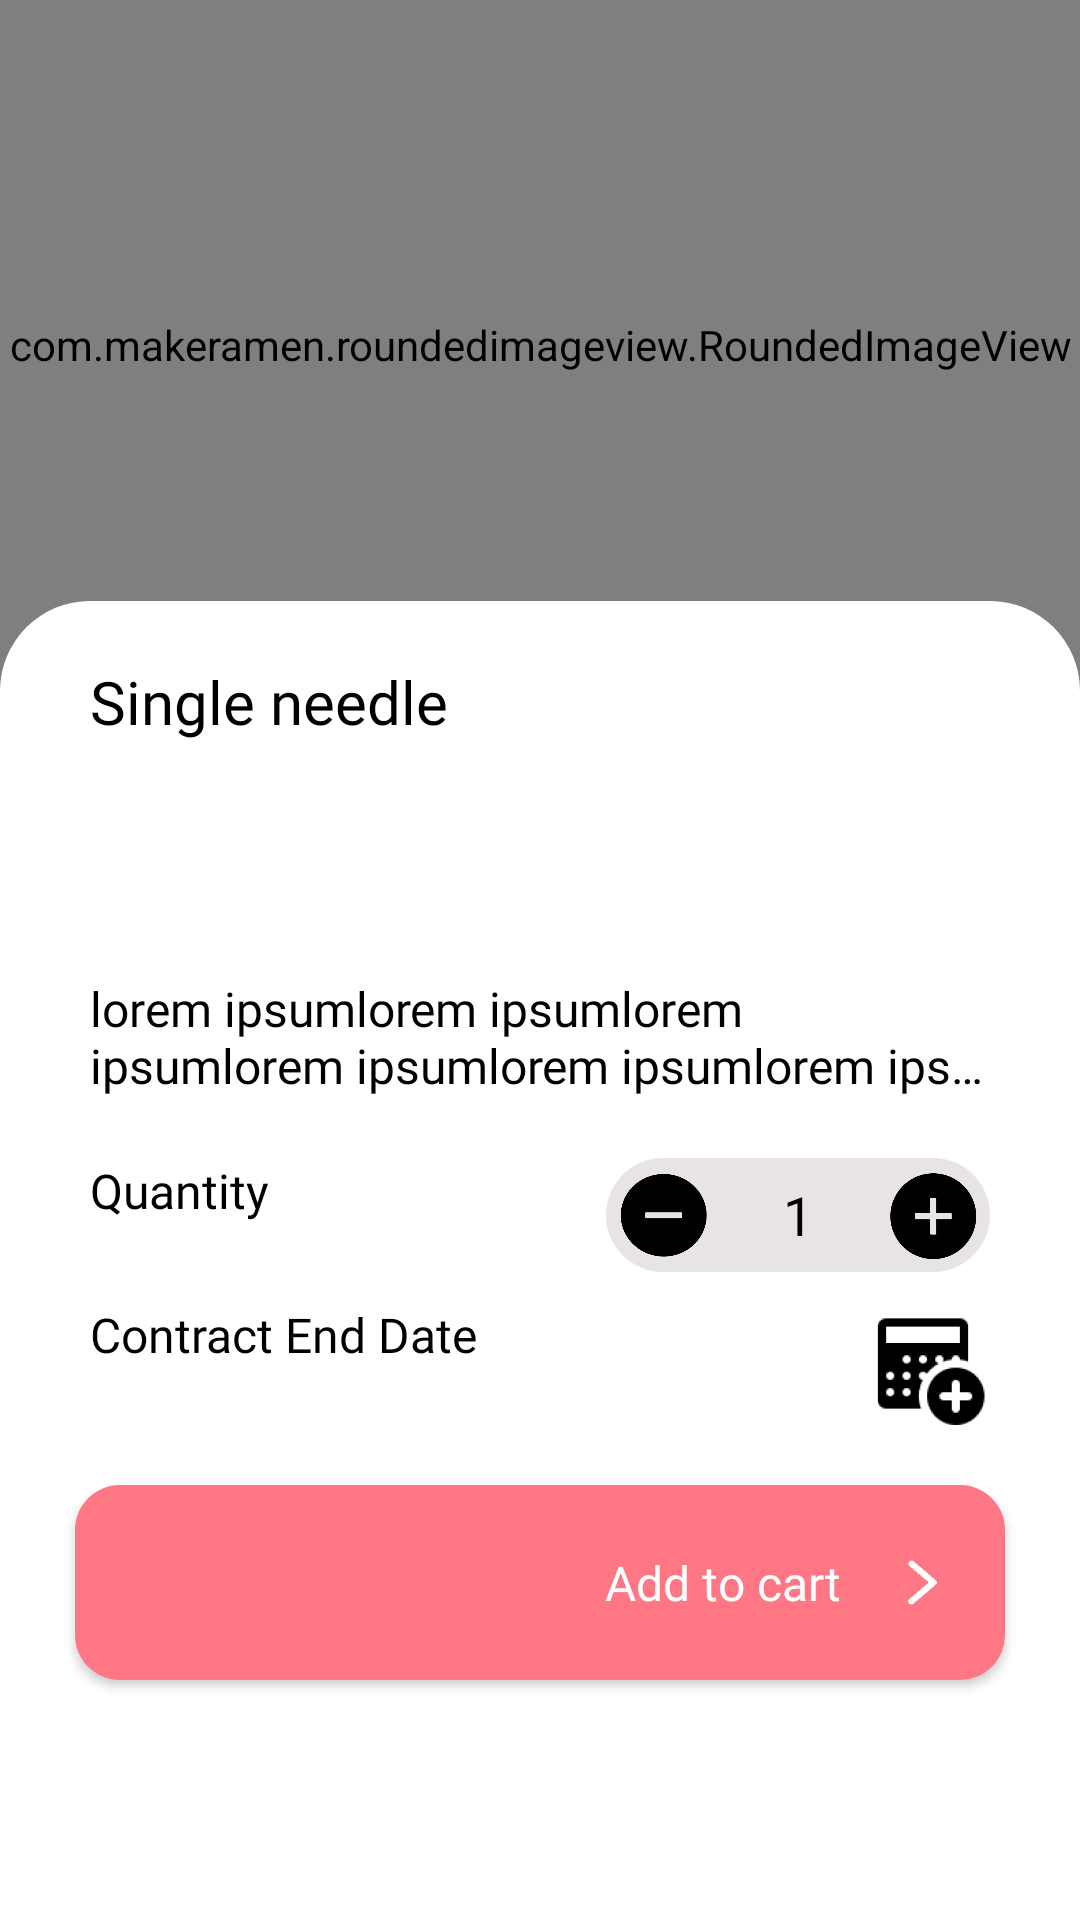

Icon bounding boxes for this 1080w x 1920h phone screenshot, format (x1,y1,x2,y2):
calendar plus: (877,1318,985,1425)
minus: (621,1174,707,1257)
next: (908,1560,937,1605)
plus: (890,1173,976,1259)
